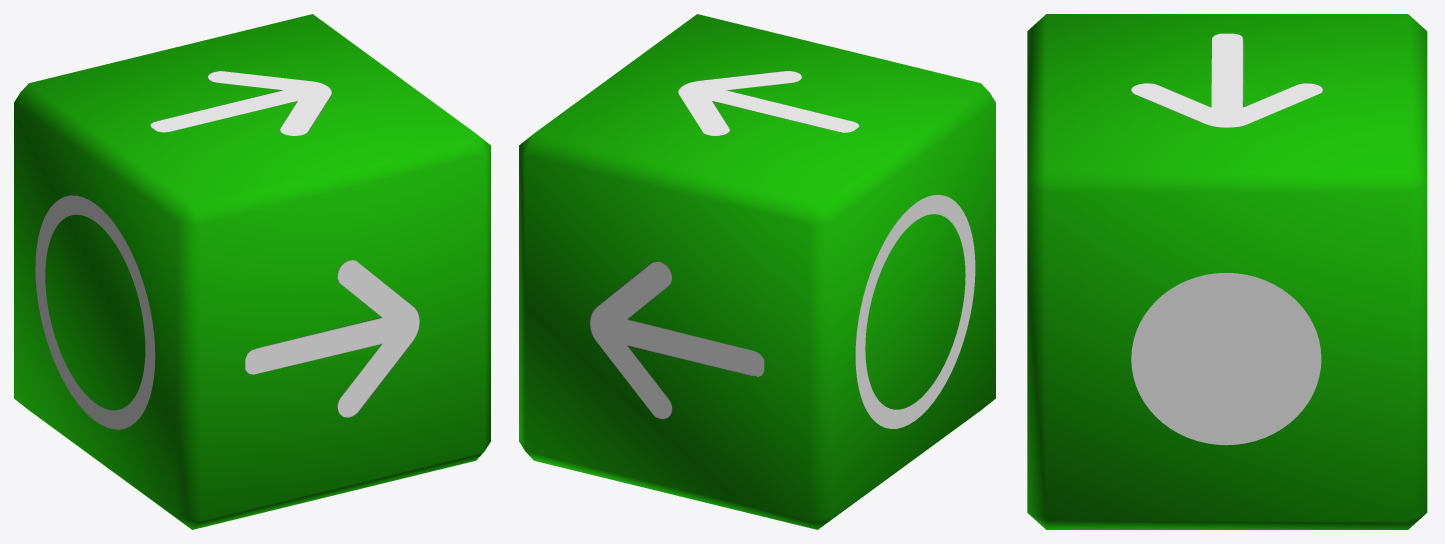
The model's file is BigBoxTapFlowBox_1_1_1_Clean_test2.fbx.
3 views of the same model, side by side, from view 1: azimuth 30°, elevation 25°; view 2: azimuth 150°, elevation 25°; view 3: azimuth 270°, elevation 25° (orthographic). The views are drawn at different scales.
Visible parts, largest first — view 1: BigBoxTapFlowBox_1_1_1_Clean_test; view 2: BigBoxTapFlowBox_1_1_1_Clean_test; view 3: BigBoxTapFlowBox_1_1_1_Clean_test.
Boxes of the visible parts, x1,y1,x2,y2 form: BigBoxTapFlowBox_1_1_1_Clean_test: (14, 14, 490, 529); BigBoxTapFlowBox_1_1_1_Clean_test: (519, 14, 995, 529); BigBoxTapFlowBox_1_1_1_Clean_test: (1027, 14, 1427, 529).
Bounding box in the file's own units: 1.05 × 1.08 × 1.07.
